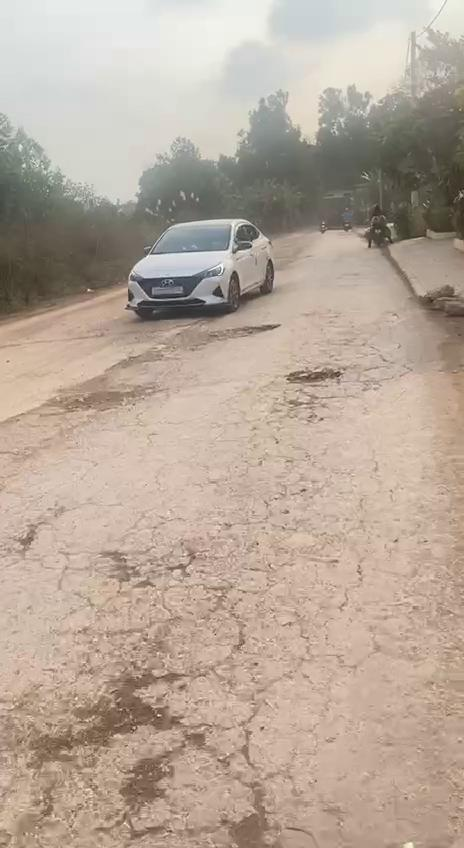pothole: (25, 655, 277, 848)
